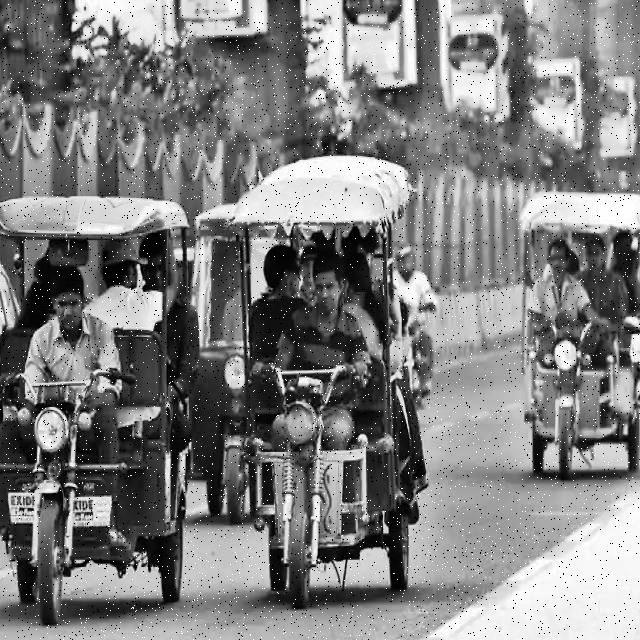Toto: (235, 154, 421, 606), (0, 192, 192, 618), (517, 181, 640, 485)
